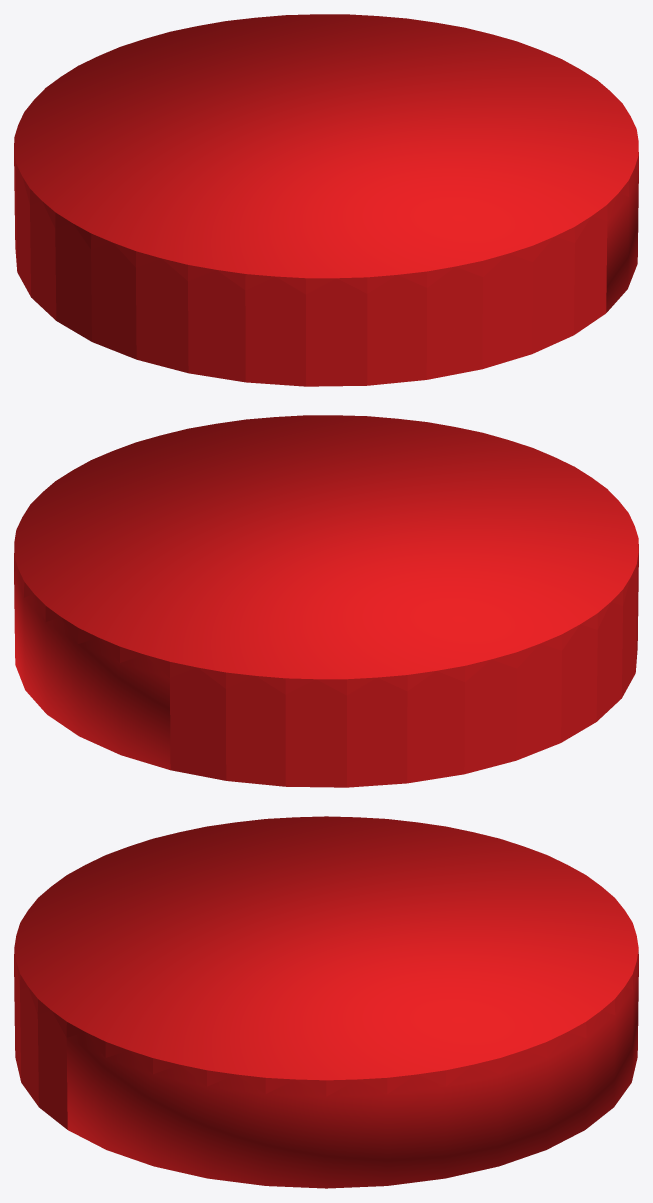
File: ulcera.gltf
The picture shows the model from 3 angles, top to bottom: view 1: azimuth 30°, elevation 25°; view 2: azimuth 150°, elevation 25°; view 3: azimuth 270°, elevation 25°; orthographic projection.
Parts seen in each view (by area): view 1: Cilindro; view 2: Cilindro; view 3: Cilindro.
Boxes of the visible parts, left/top/right/bottom form: Cilindro: left=14, top=14, right=638, bottom=386; Cilindro: left=14, top=415, right=638, bottom=787; Cilindro: left=14, top=816, right=638, bottom=1188.
Size of the model in its own units: 2 by 0.3826 by 2.
